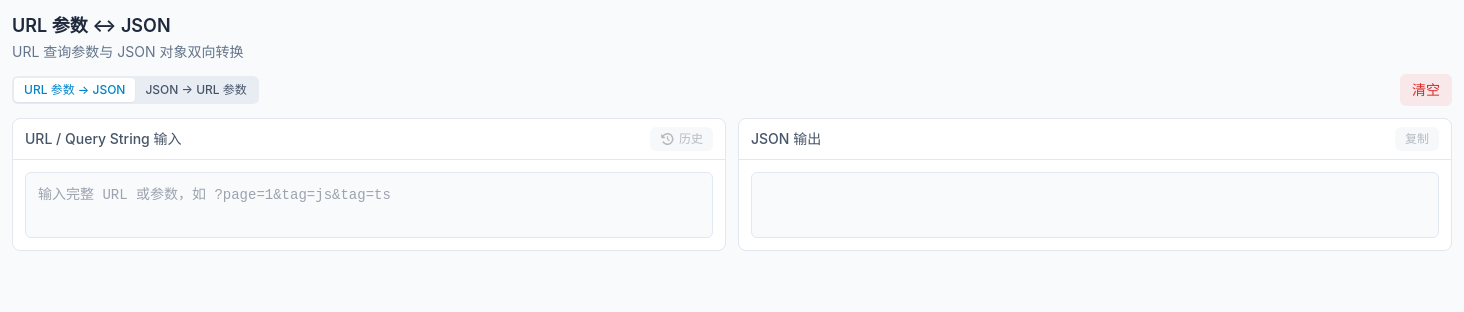
Test: 工具组件冒烟测试 › URL 参数与 JSON 工具拒绝普通文本输入
In the text box with placeholder "输入完整 URL 或参数，如 ?page=1&tag=js&tag=ts": [369, 205] box [25,172,713,238], type "ordinary text"
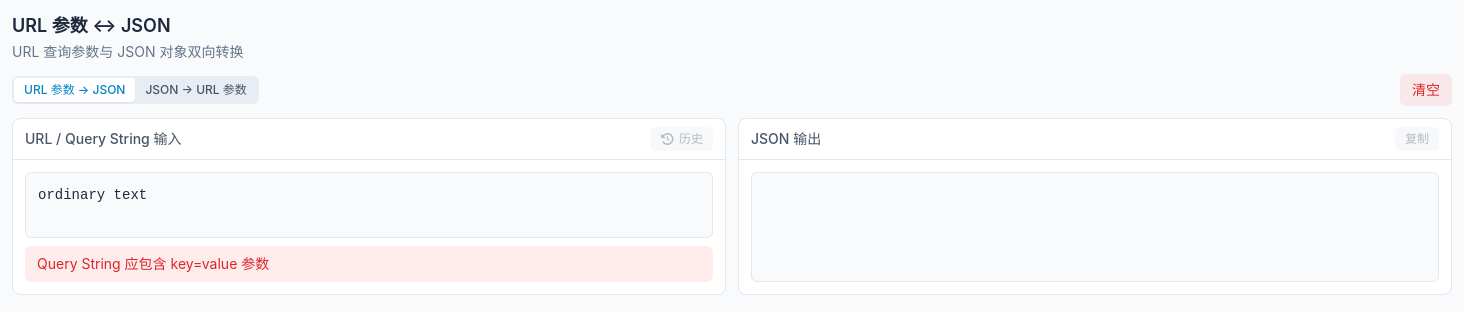
Expected: the text box below "JSON 输出" is empty, [751,172,1439,282]
Expected: the text "Query String 应包含 key=value 参数" is shown, [25,246,713,282]
